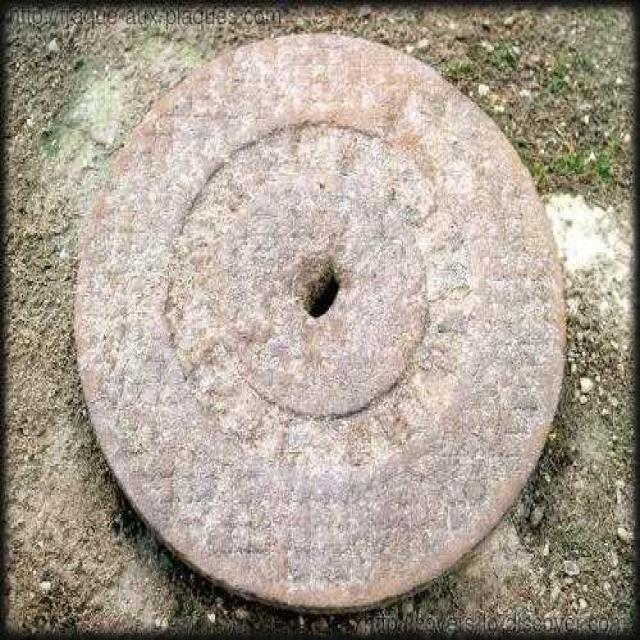manhole: (75, 35, 565, 611)
